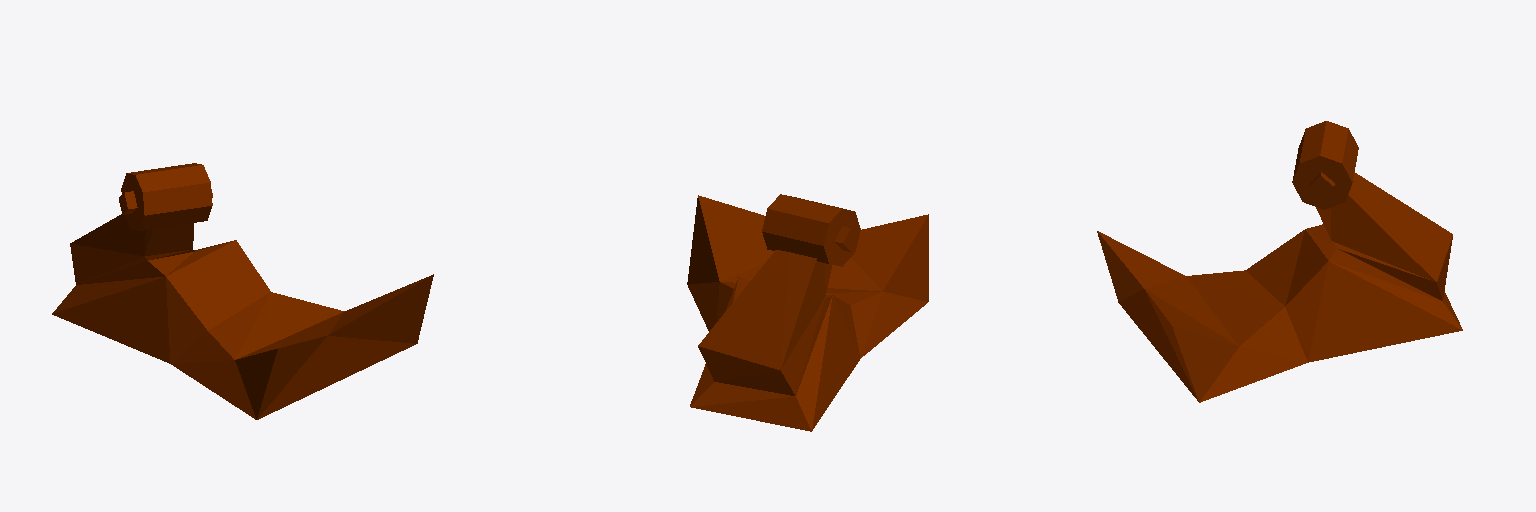
Rendered from leg_l.obj.
3 renders of one model, left to right at view 1: azimuth 30°, elevation 25°; view 2: azimuth 150°, elevation 25°; view 3: azimuth 270°, elevation 25°, orthographic.
Parts seen in each view (by area): view 1: all:transformblitzcrank_transformblitzcrank; view 2: all:transformblitzcrank_transformblitzcrank; view 3: all:transformblitzcrank_transformblitzcrank.
Part boxes in pixels (x1,y1,x2,y2): all:transformblitzcrank_transformblitzcrank: (52, 163, 433, 419); all:transformblitzcrank_transformblitzcrank: (687, 194, 928, 431); all:transformblitzcrank_transformblitzcrank: (1097, 121, 1462, 402).
Bounding box in the file's own units: 4.22 × 2.85 × 5.39.